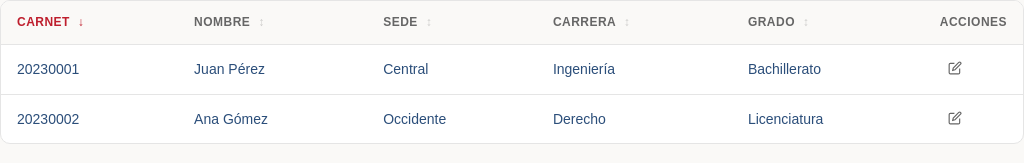
Scenario: StudentTable › closes edit mode when cancel button is clicked
Click the button named "Editar estudiante Juan Pérez".
click(955, 68)  # box [940,57,970,79]
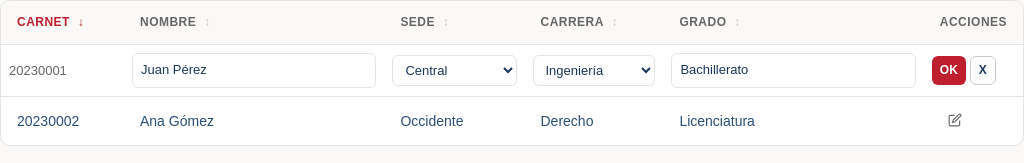
Click the button "X".
click(983, 71)  # box [970,56,996,85]
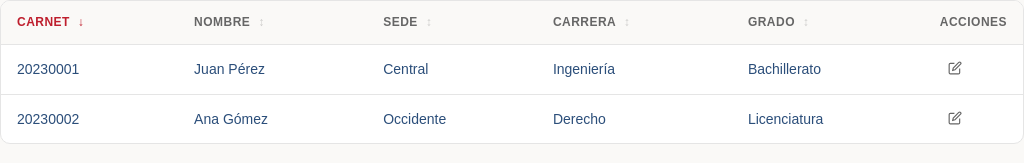
Expected: the button "OK" is gone
